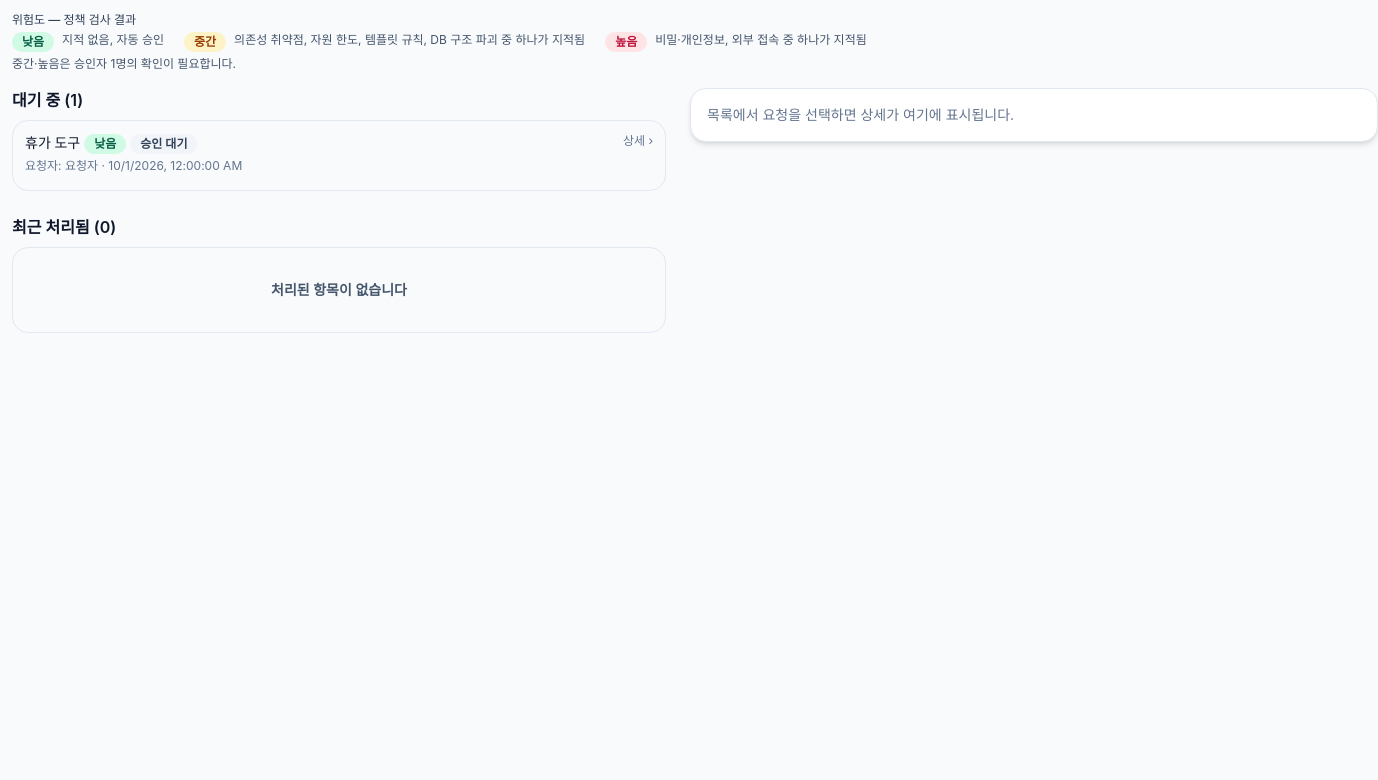
it: the preview smoke check inside the approval console's detail › is there for a build that was not measured, with no live region around it
Click the list item with aria-label "휴가 도구 요청 상세 보기".
click(339, 156)  # box [12,120,666,191]
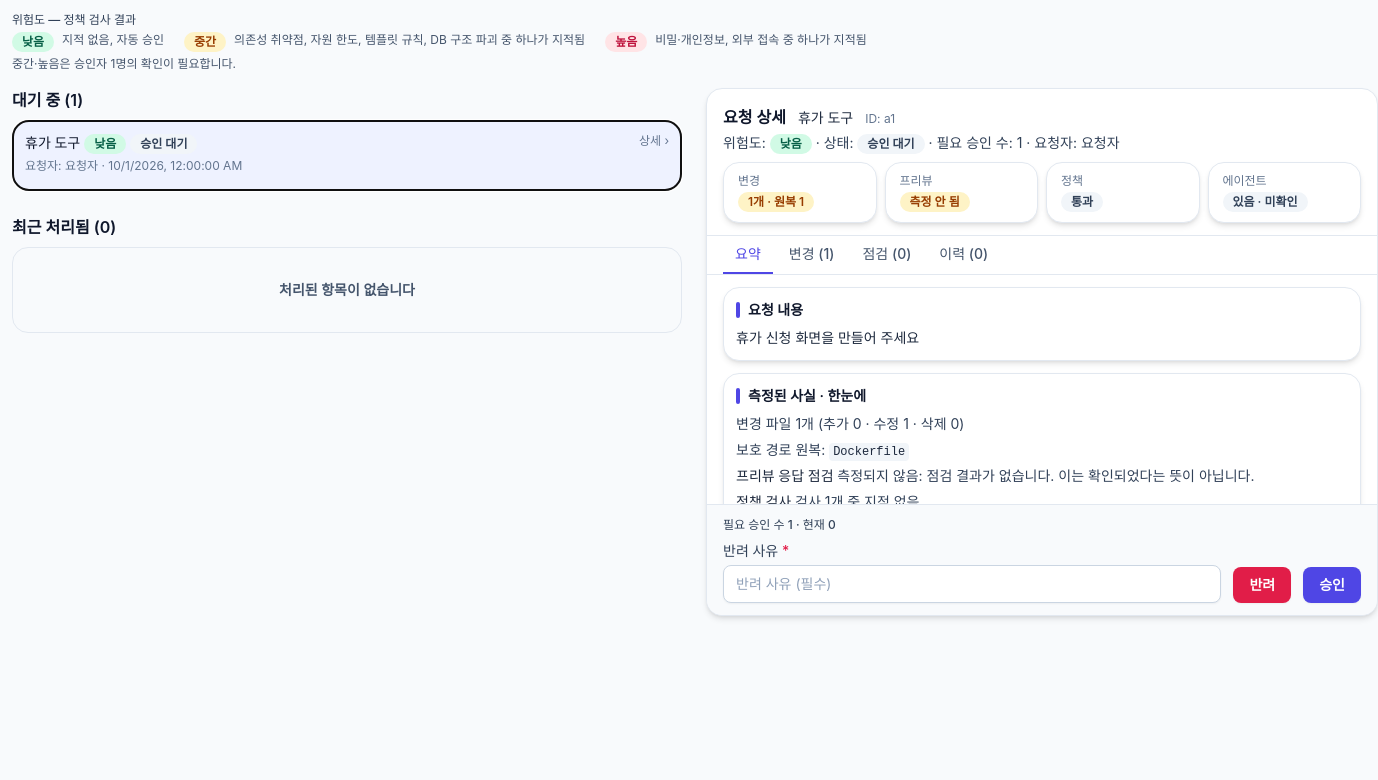
Click the tab "점검 (0)".
click(887, 255)  # box [850,236,923,274]
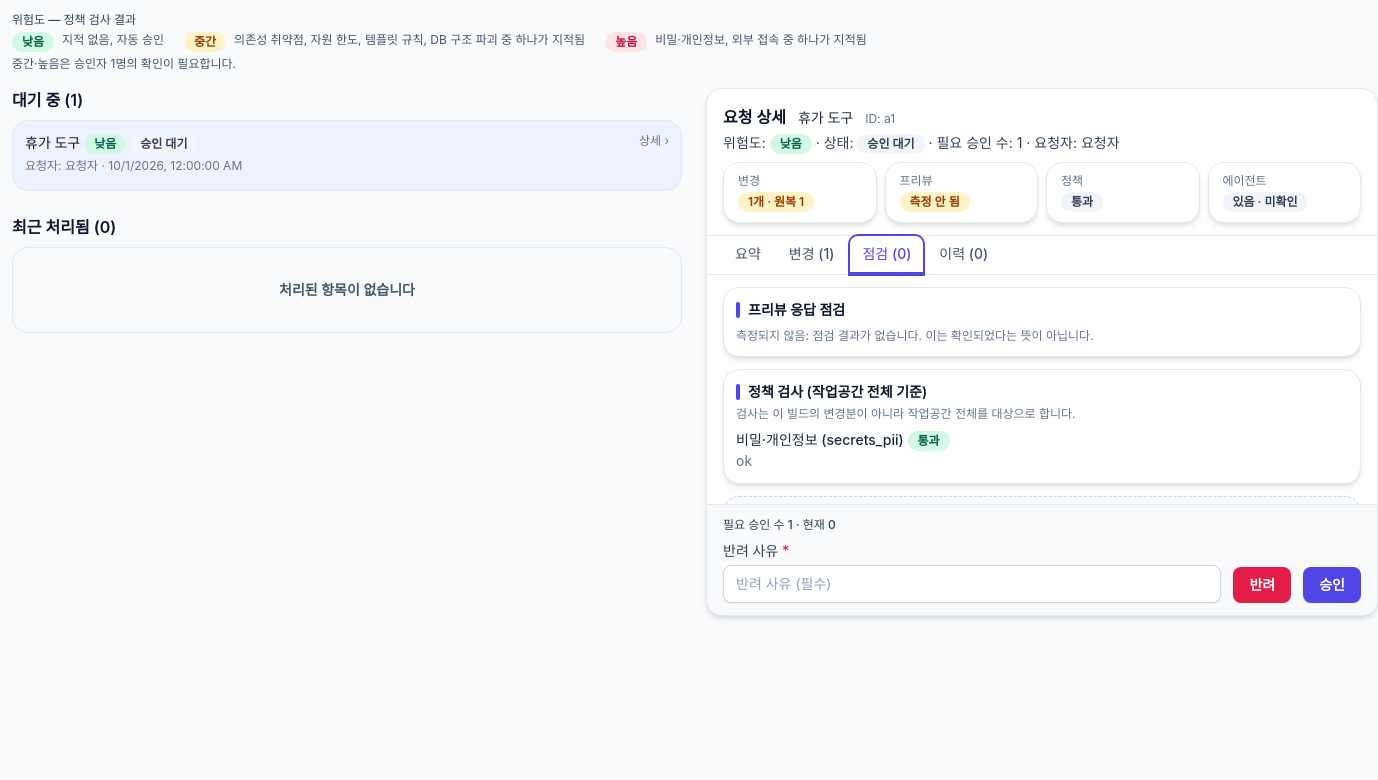
Expected: the heading "프리뷰 응답 점검" is shown, [736,301,845,318]
